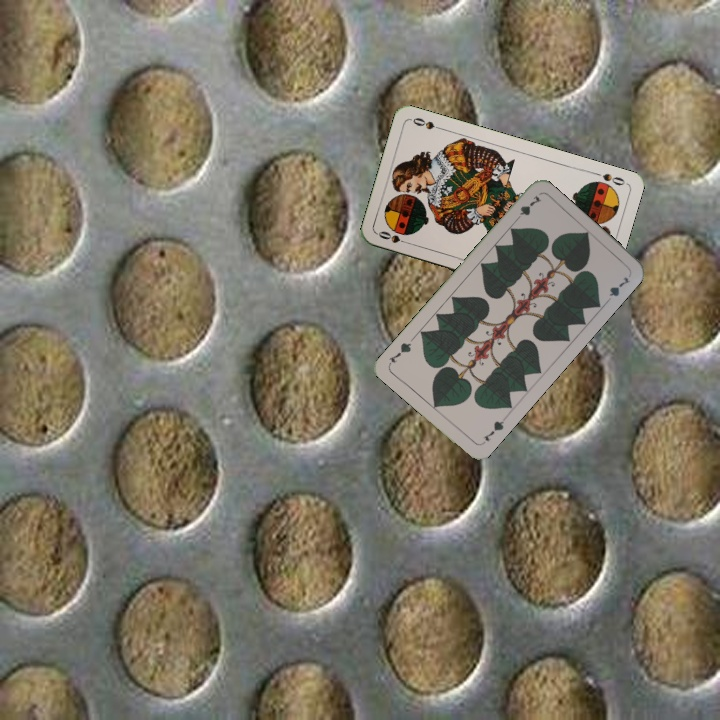G7: (510, 191, 543, 225), (478, 414, 509, 447)
SO: (374, 227, 414, 248), (589, 168, 627, 188)
